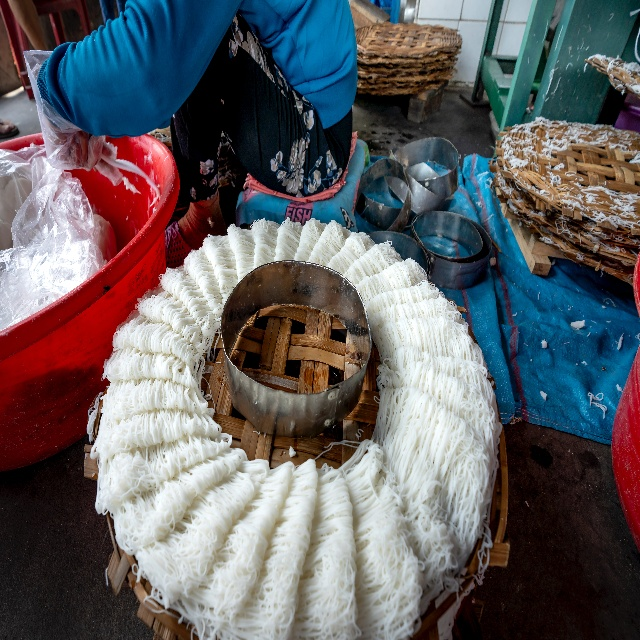Guantes: (23, 48, 123, 187)
Sin_guantes: (47, 121, 115, 177)
